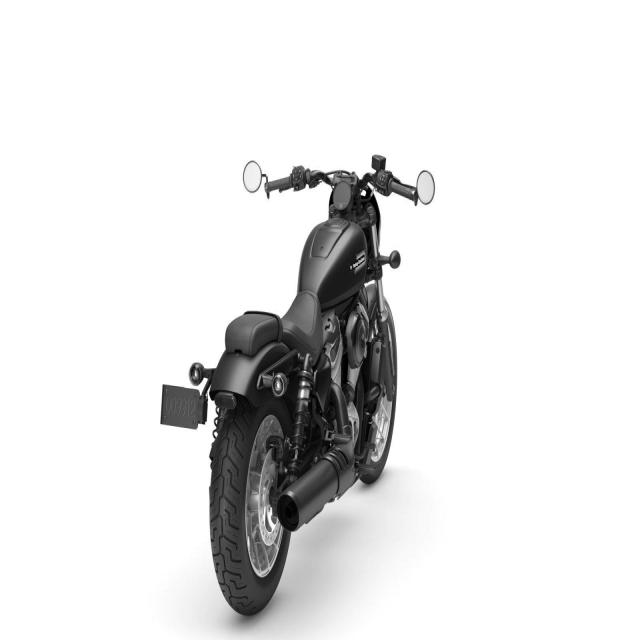Motorcycle: (161, 153, 435, 614)
